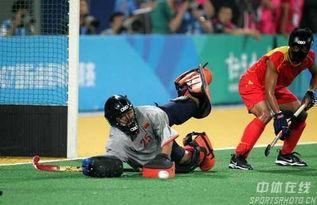Fall-Detected: (83, 55, 222, 175)
